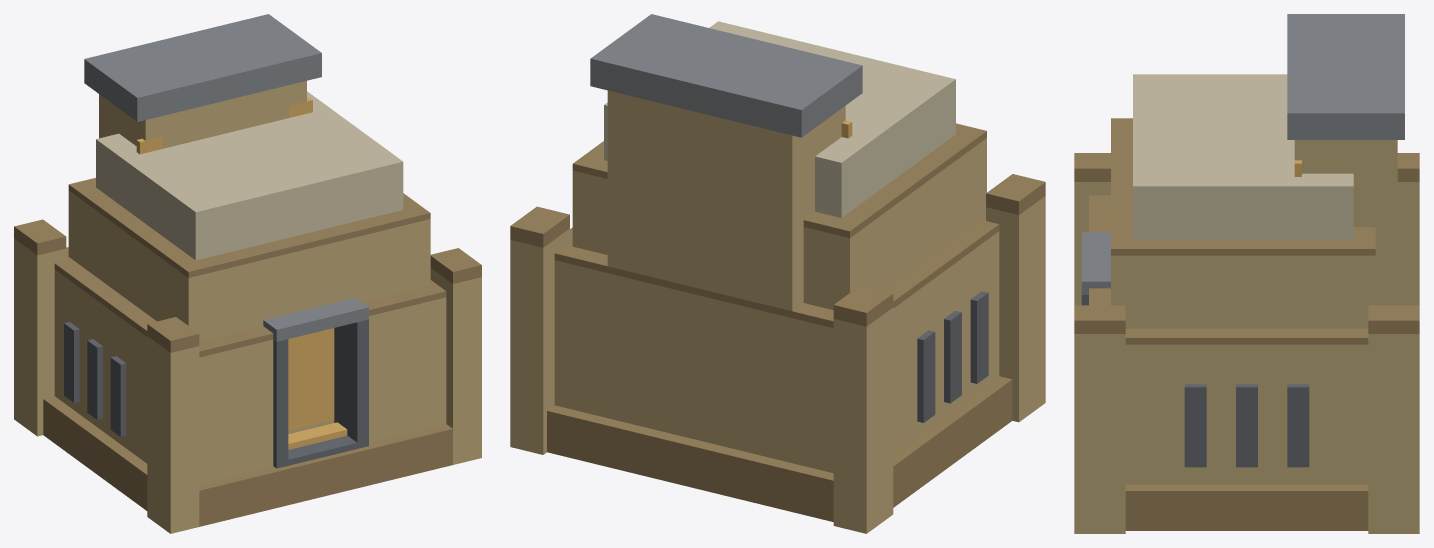
File: works.glb
The picture shows the model from 3 angles, left to right: view 1: azimuth 30°, elevation 25°; view 2: azimuth 150°, elevation 25°; view 3: azimuth 270°, elevation 25°; orthographic projection. The views are drawn at different scales.
Bounding box in the file's own units: 54 × 58 × 47.
